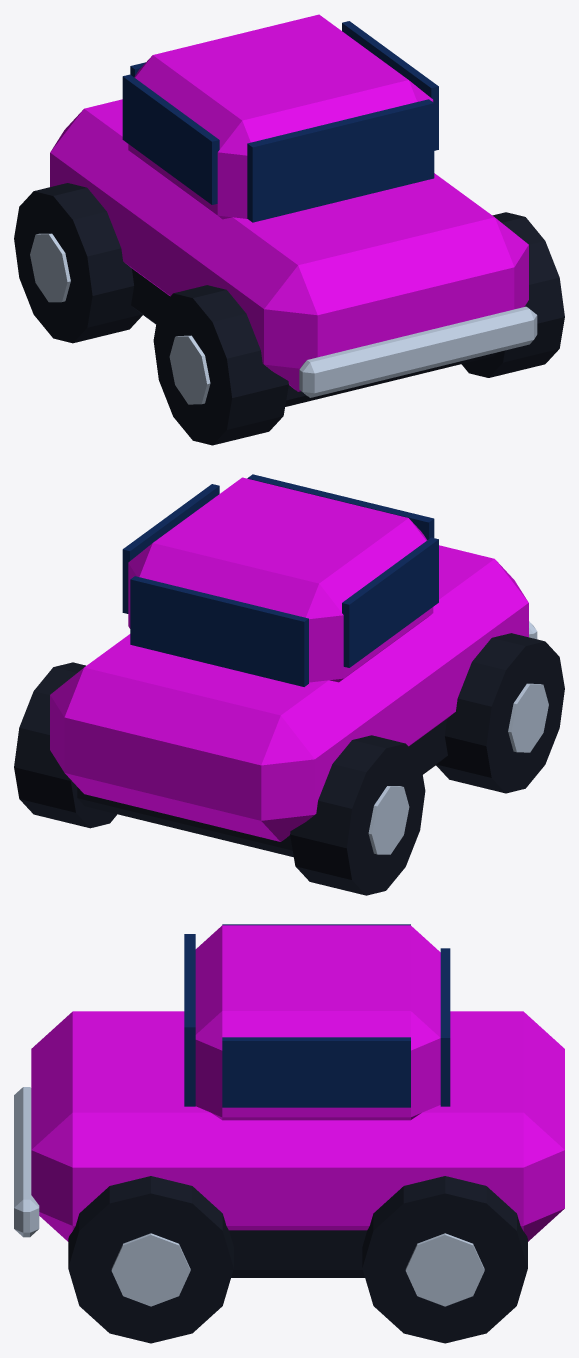
File: car.glb
The picture shows the model from 3 angles, top to bottom: view 1: azimuth 30°, elevation 25°; view 2: azimuth 150°, elevation 25°; view 3: azimuth 270°, elevation 25°; orthographic projection. The views are drawn at different scales.
Visible parts, largest first — view 1: Chassis, WheelFrontL, WheelRearL, WheelFrontR; view 2: Chassis, WheelRearL, WheelFrontL, WheelRearR; view 3: Chassis, WheelFrontR, WheelRearR.
Boxes of the visible parts, bbox=[...] form: Chassis: bbox=[50, 14, 537, 406]; WheelFrontL: bbox=[153, 285, 288, 445]; WheelRearL: bbox=[14, 183, 142, 343]; WheelFrontR: bbox=[461, 212, 564, 377]; Chassis: bbox=[50, 474, 537, 857]; WheelRearL: bbox=[290, 735, 425, 895]; WheelFrontL: bbox=[436, 633, 564, 793]; WheelRearR: bbox=[14, 662, 116, 828]; Chassis: bbox=[14, 924, 564, 1277]; WheelFrontR: bbox=[68, 1176, 233, 1343]; WheelRearR: bbox=[362, 1176, 527, 1343].
Bounding box in the file's own units: 0.904 × 0.695 × 1.2.
